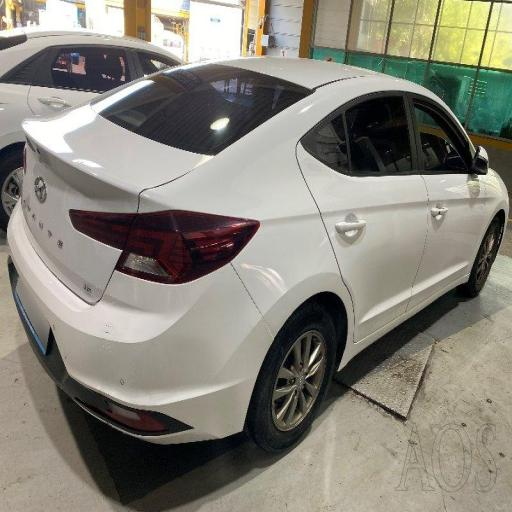scratch: (238, 214, 300, 327), (319, 201, 340, 277)
